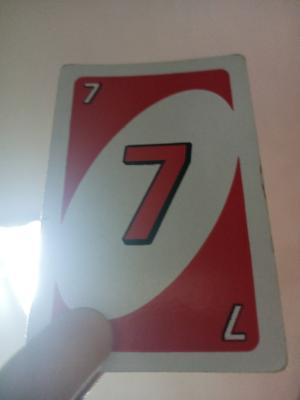num_7: (214, 291, 255, 355), (79, 74, 108, 112)
